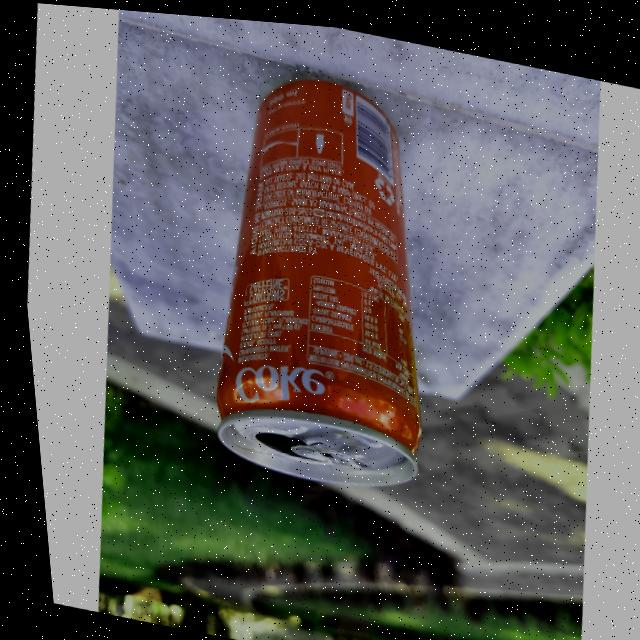Coca Cola: (163, 51, 466, 502)
